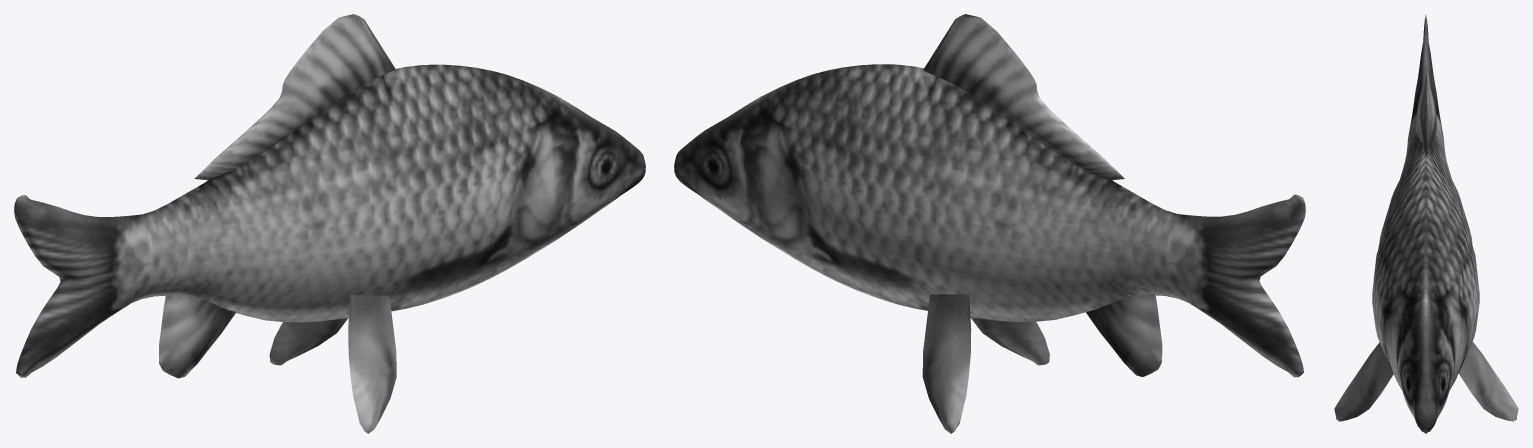
The model's file is Fish 7.fbx.
3 renders of one model, left to right at view 1: azimuth 30°, elevation 25°; view 2: azimuth 150°, elevation 25°; view 3: azimuth 270°, elevation 25°, orthographic. The views are drawn at different scales.
Visible parts, largest first — view 1: Fish_7; view 2: Fish_7; view 3: Fish_7.
Boxes of the visible parts, x1=… form: Fish_7: x1=14, y1=14, x2=645, y2=433; Fish_7: x1=674, y1=14, x2=1305, y2=433; Fish_7: x1=1334, y1=15, x2=1518, y2=433.
Bounding box in the file's own units: 8.14 × 4.66 × 2.16.
1 material, 1 textured.
